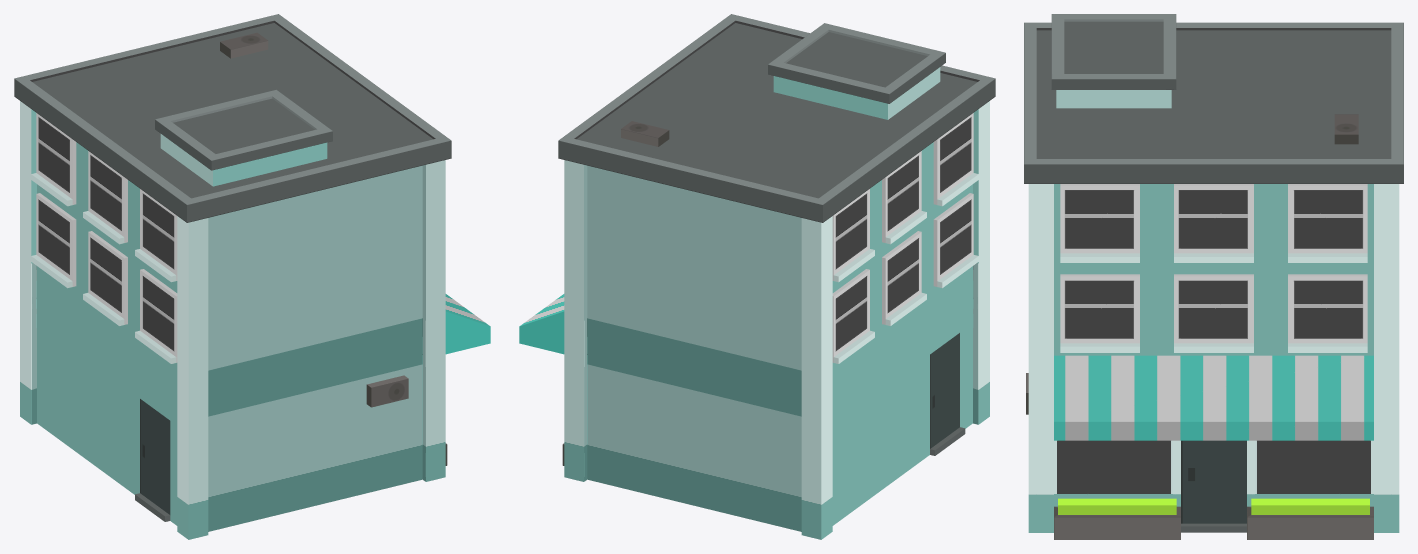
The model's file is shop_house_3.glb.
The picture shows the model from 3 angles, left to right: view 1: azimuth 30°, elevation 25°; view 2: azimuth 150°, elevation 25°; view 3: azimuth 270°, elevation 25°; orthographic projection. The views are drawn at different scales.
Parts seen in each view (by area): view 1: shop_classic_mesh; view 2: shop_classic_mesh; view 3: shop_classic_mesh.
Part boxes in pixels (box(x1,y1,x2,y2)): shop_classic_mesh: box(14, 14, 490, 539); shop_classic_mesh: box(519, 14, 995, 539); shop_classic_mesh: box(1024, 14, 1403, 539).
Size of the model in its own units: 0.1232 by 0.1348 by 0.1163.
Materials: 1 (1 with a texture image).
